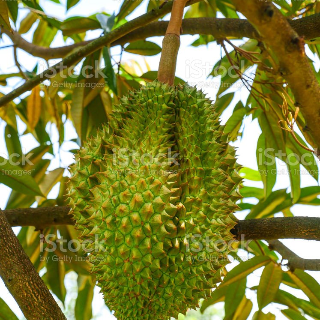sau_rieng: (66, 82, 244, 319)
